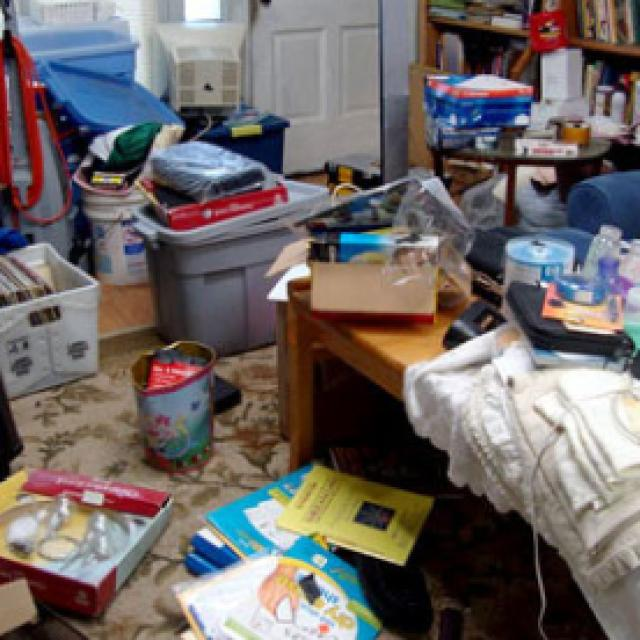mess: (0, 299, 443, 640), (218, 111, 640, 420)
